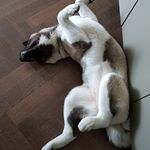puppy: (15, 1, 135, 148)
